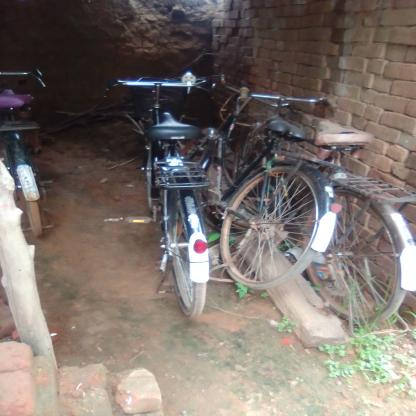bike: (83, 58, 258, 336), (196, 43, 330, 299), (4, 44, 67, 238)
